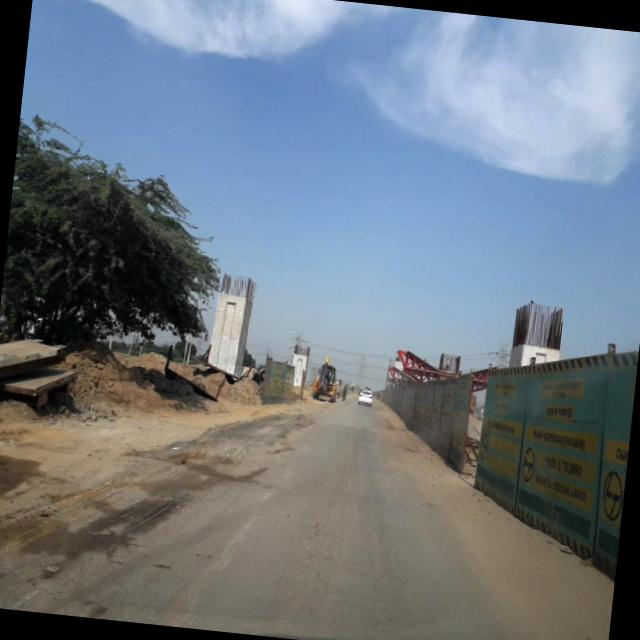pothole: (118, 488, 183, 540)
